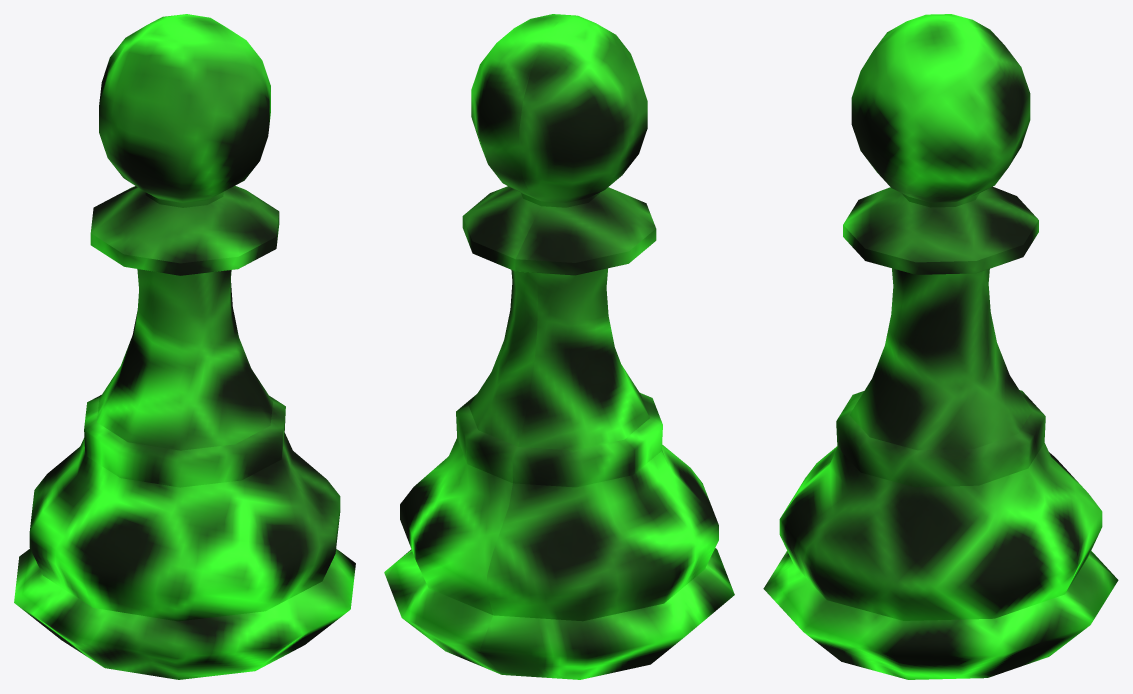
Rendered from item-0-8.glb.
3 renders of one model, left to right at view 1: azimuth 30°, elevation 25°; view 2: azimuth 150°, elevation 25°; view 3: azimuth 270°, elevation 25°, orthographic.
Visible parts, largest first — view 1: BlackPawn; view 2: BlackPawn; view 3: BlackPawn.
Part boxes in pixels (x1=…): BlackPawn: x1=14, y1=14, x2=355, y2=679; BlackPawn: x1=384, y1=14, x2=734, y2=679; BlackPawn: x1=763, y1=14, x2=1118, y2=679.
Bounding box in the file's own units: 0.0889 × 0.1731 × 0.0918.
1 material, 1 textured.
